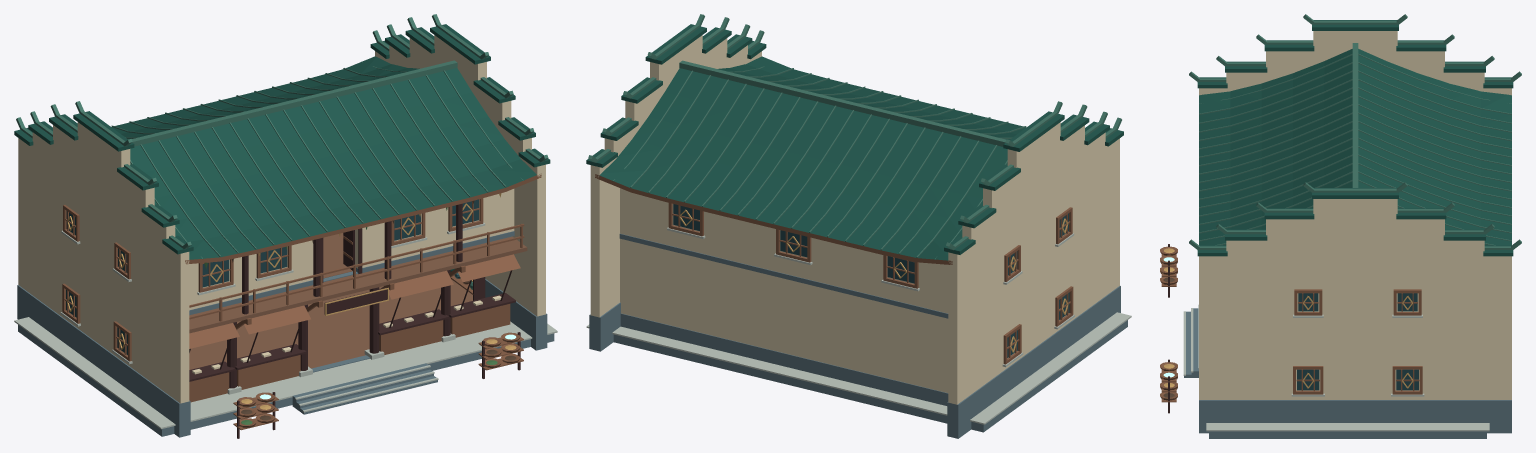
Rendered from medicine_hall.glb.
The picture shows the model from 3 angles, left to right: view 1: azimuth 30°, elevation 25°; view 2: azimuth 150°, elevation 25°; view 3: azimuth 270°, elevation 25°; orthographic projection. The views are drawn at different scales.
Parts seen in each view (by area): view 1: MedicineHall / Jade, MedicineHall / Plaster, MedicineHall / Cedar, MedicineHall / Floor, MedicineHall / Stone, MedicineHall / TileLight, MedicineHall / Coping, MedicineHall / Timber, MedicineHall / Window, MedicineHall / Bronze; view 2: MedicineHall / Plaster, MedicineHall / Jade, MedicineHall / Stone, MedicineHall / TileLight, MedicineHall / Coping, MedicineHall / Cedar, MedicineHall / Window; view 3: MedicineHall / Plaster, MedicineHall / Jade, MedicineHall / TileLight, MedicineHall / Stone, MedicineHall / Coping, MedicineHall / Cedar, MedicineHall / Window, MedicineHall / Bronze.
Part boxes in pixels (x1,y1,x2,y2): MedicineHall / Jade: (14, 24, 550, 271); MedicineHall / Plaster: (18, 35, 545, 403); MedicineHall / Cedar: (62, 173, 541, 430); MedicineHall / Floor: (189, 233, 527, 369); MedicineHall / Stone: (17, 231, 554, 437); MedicineHall / TileLight: (16, 14, 548, 289); MedicineHall / Coping: (14, 222, 557, 429); MedicineHall / Timber: (189, 203, 520, 438); MedicineHall / Window: (66, 199, 478, 354); MedicineHall / Bronze: (67, 193, 516, 409); MedicineHall / Plaster: (590, 35, 1119, 404); MedicineHall / Jade: (586, 24, 1123, 260); MedicineHall / Stone: (589, 233, 1127, 438); MedicineHall / TileLight: (588, 14, 1121, 259); MedicineHall / Coping: (586, 227, 1131, 424); MedicineHall / Cedar: (595, 174, 1073, 364); MedicineHall / Window: (673, 204, 1069, 357); MedicineHall / Plaster: (1199, 31, 1511, 399); MedicineHall / Jade: (1197, 20, 1513, 256); MedicineHall / TileLight: (1189, 14, 1521, 249); MedicineHall / Stone: (1184, 308, 1511, 438); MedicineHall / Coping: (1183, 304, 1489, 431); MedicineHall / Cedar: (1160, 246, 1422, 402); MedicineHall / Window: (1297, 293, 1418, 390); MedicineHall / Bronze: (1163, 248, 1413, 388).
Size of the model in its own units: 17.8 by 11 by 14.56.
